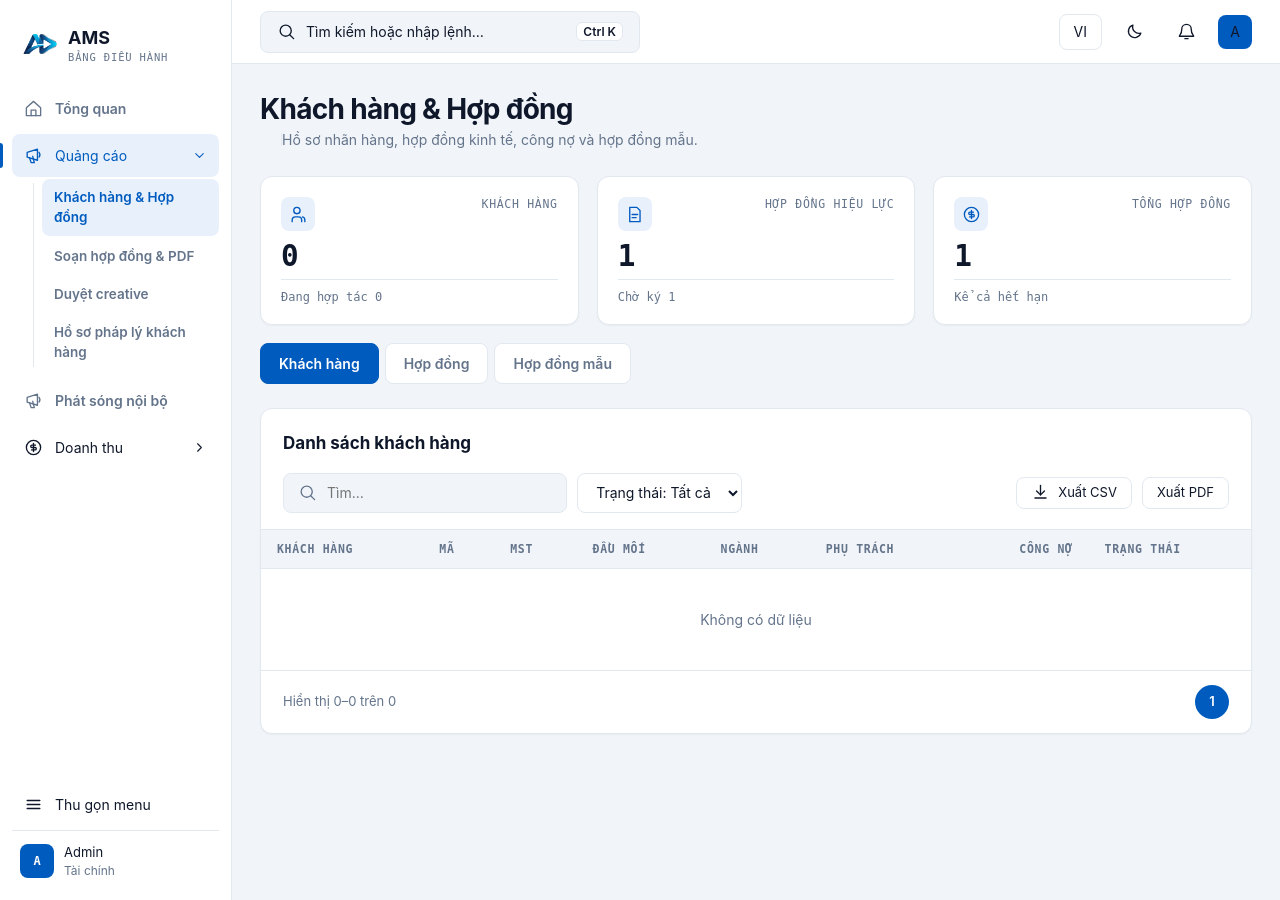
u1: dong gia hop dong › hop dong da ket thuc: khong sua; khong co finance:view: khong co nut Dong gia
Click the button "Hợp đồng": (437, 364) [385,343,488,384]
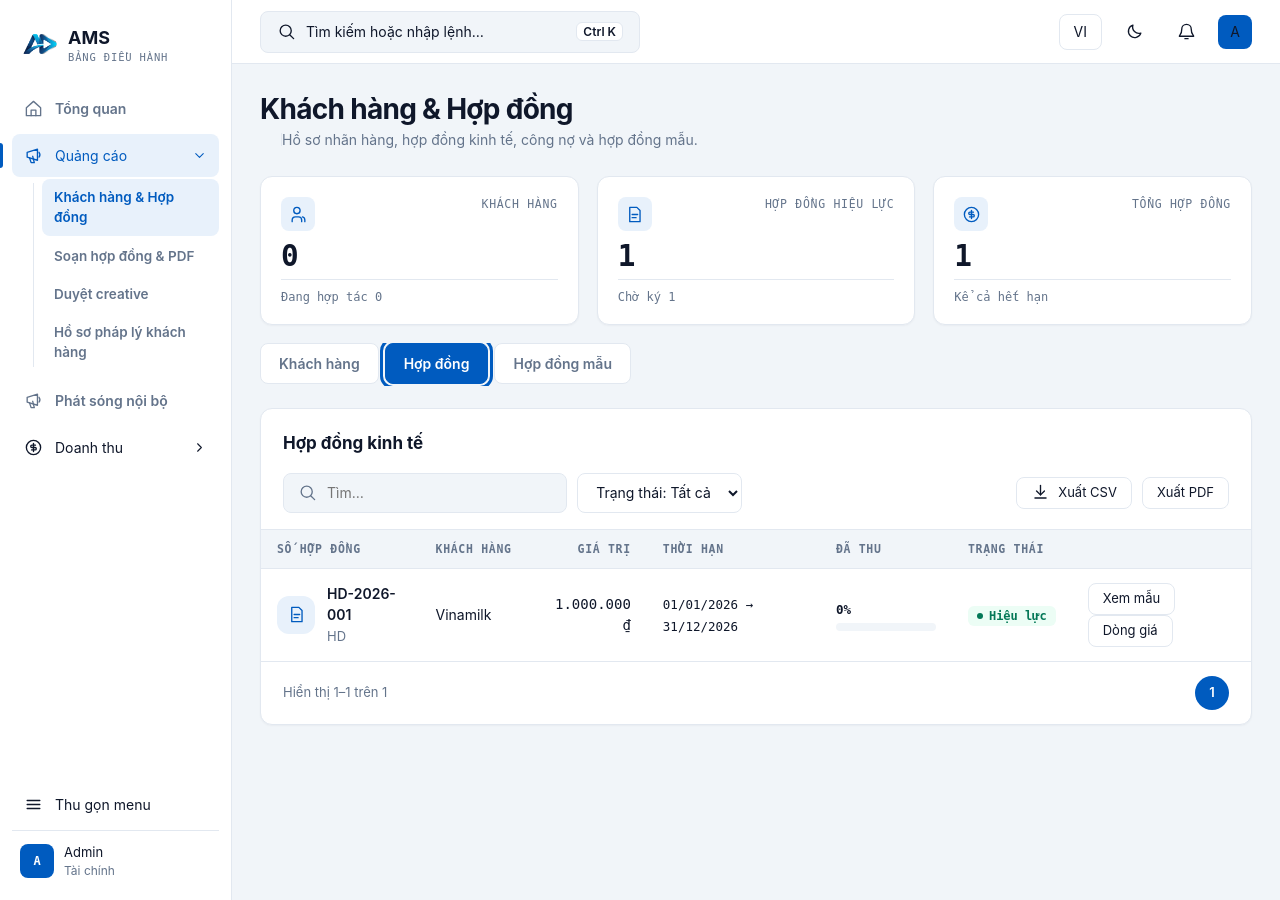
Click the button "Dòng giá": (1130, 630) [1088,614,1173,646]
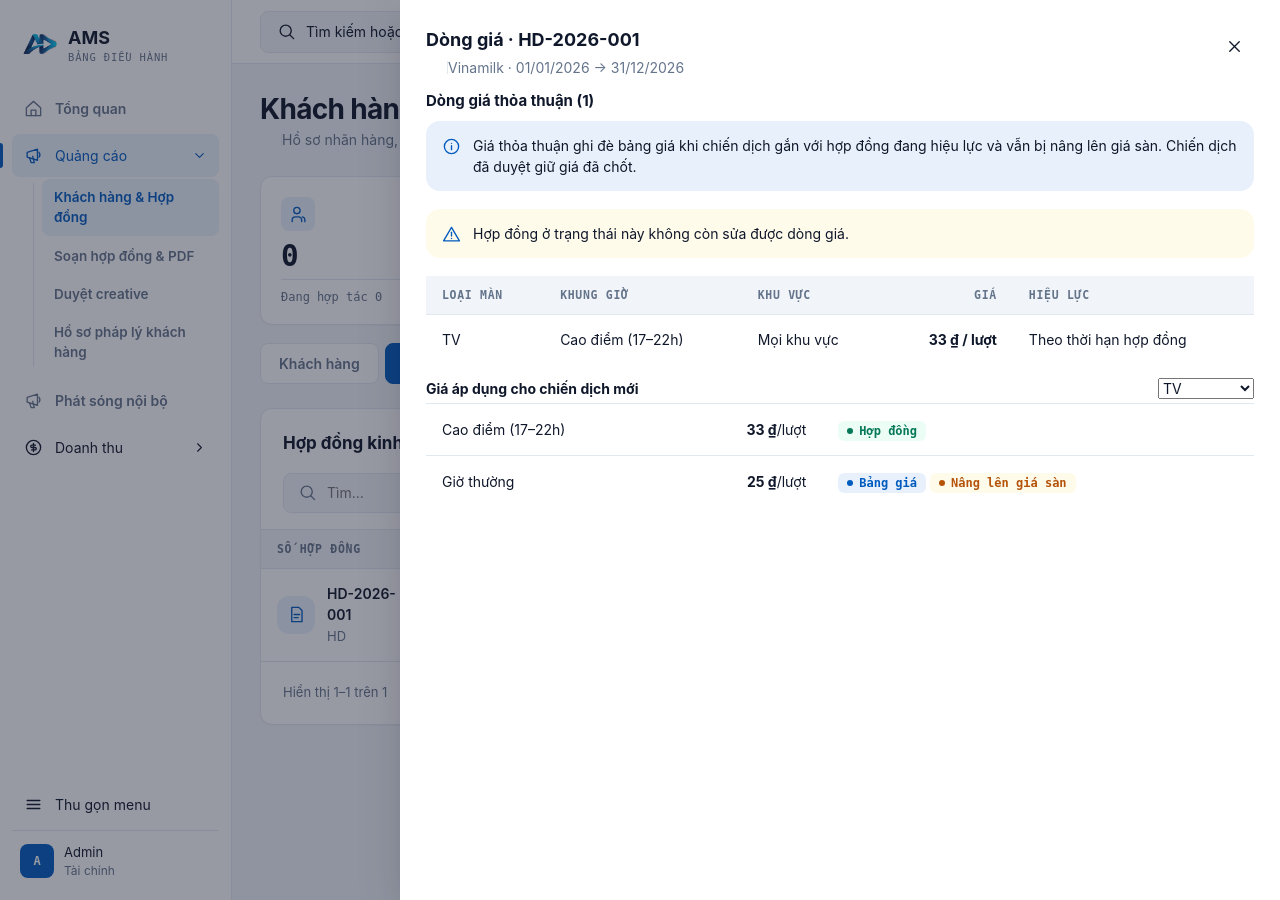
Now the text "Hợp đồng ở trạng thái này không còn sửa được dòng giá." is shown, box [473,222,849,244]
